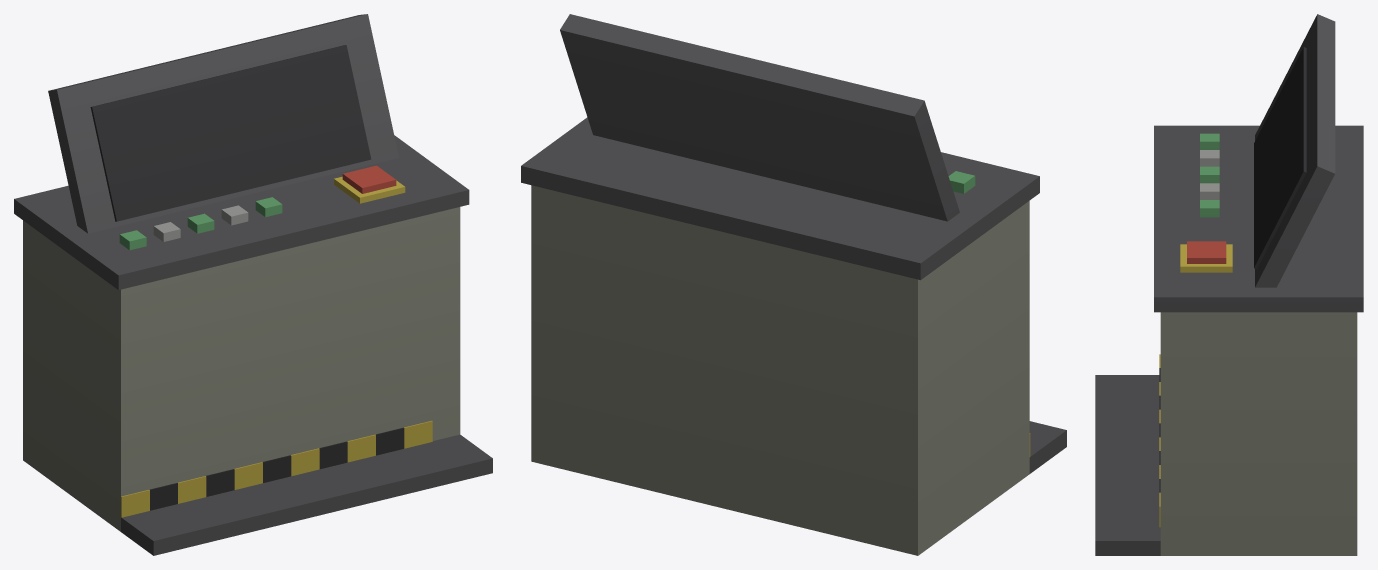
The model's file is lzConsole_steel.glb.
The picture shows the model from 3 angles, left to right: view 1: azimuth 30°, elevation 25°; view 2: azimuth 150°, elevation 25°; view 3: azimuth 270°, elevation 25°; orthographic projection. The views are drawn at different scales.
Parts seen in each view (by area): view 1: lzConsole_steel; view 2: lzConsole_steel; view 3: lzConsole_steel.
Part boxes in pixels (bbox=[...]): lzConsole_steel: bbox=[14, 14, 492, 555]; lzConsole_steel: bbox=[521, 14, 1066, 555]; lzConsole_steel: bbox=[1095, 14, 1363, 555].
Bounding box in the file's own units: 1.24 × 1.29 × 0.82.
